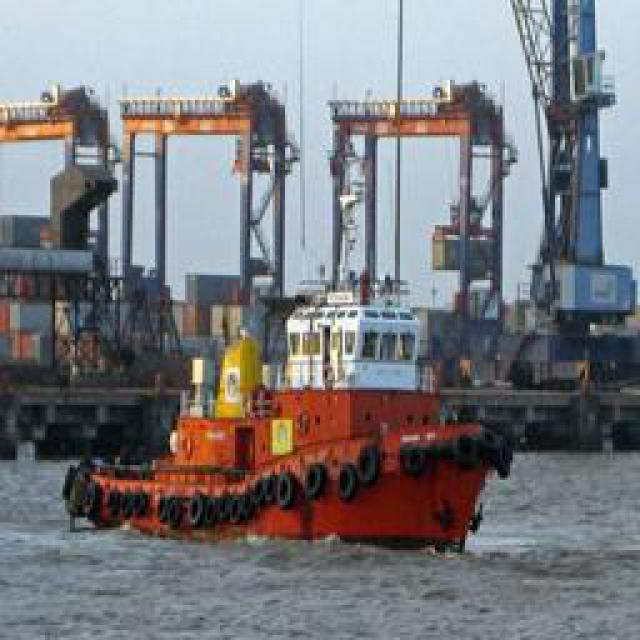Ship: (60, 261, 510, 556)
